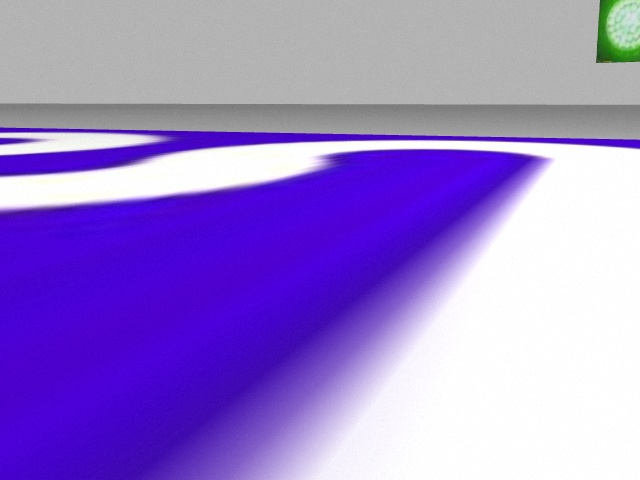green: (599, 1, 640, 61)
